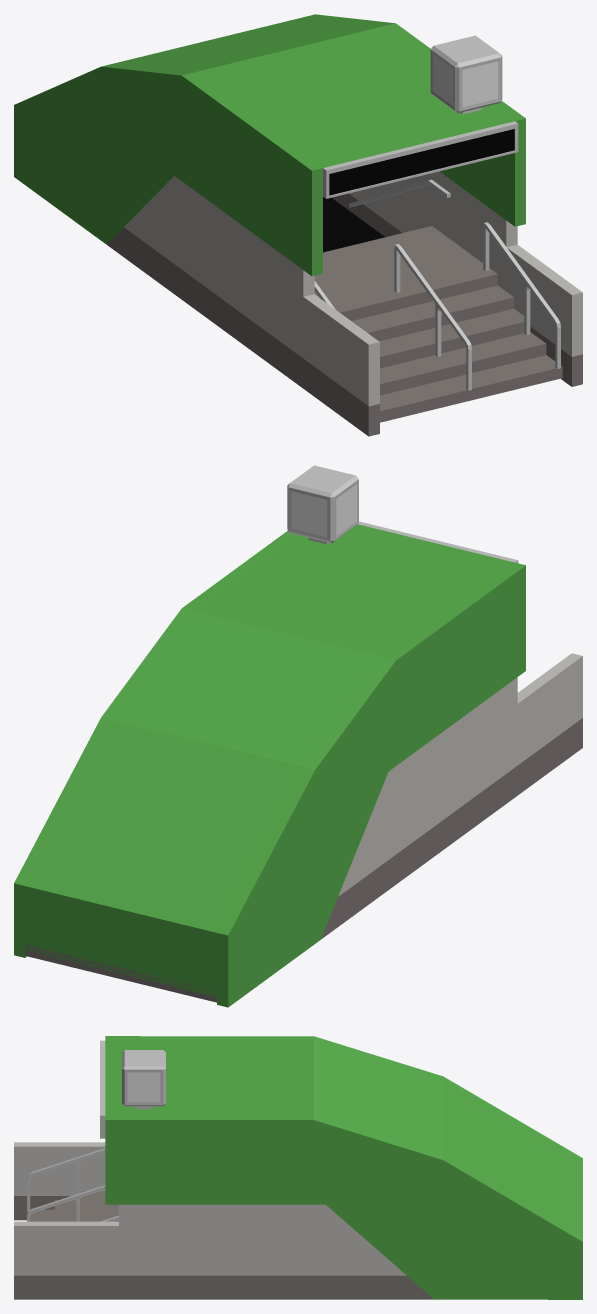
The model's file is MTR_G.fbx.
3 renders of one model, top to bottom at view 1: azimuth 30°, elevation 25°; view 2: azimuth 150°, elevation 25°; view 3: azimuth 270°, elevation 25°, orthographic. The views are drawn at different scales.
Visible parts, largest first — view 1: MTR_LOD0; view 2: MTR_LOD0; view 3: MTR_LOD0.
Part boxes in pixels (left/top/right/bottom): MTR_LOD0: left=14, top=14, right=582, bottom=436; MTR_LOD0: left=14, top=465, right=582, bottom=1007; MTR_LOD0: left=14, top=1036, right=582, bottom=1299.
Size of what is drawn, in the model's own units: 23.45 by 29.74 by 67.28.
